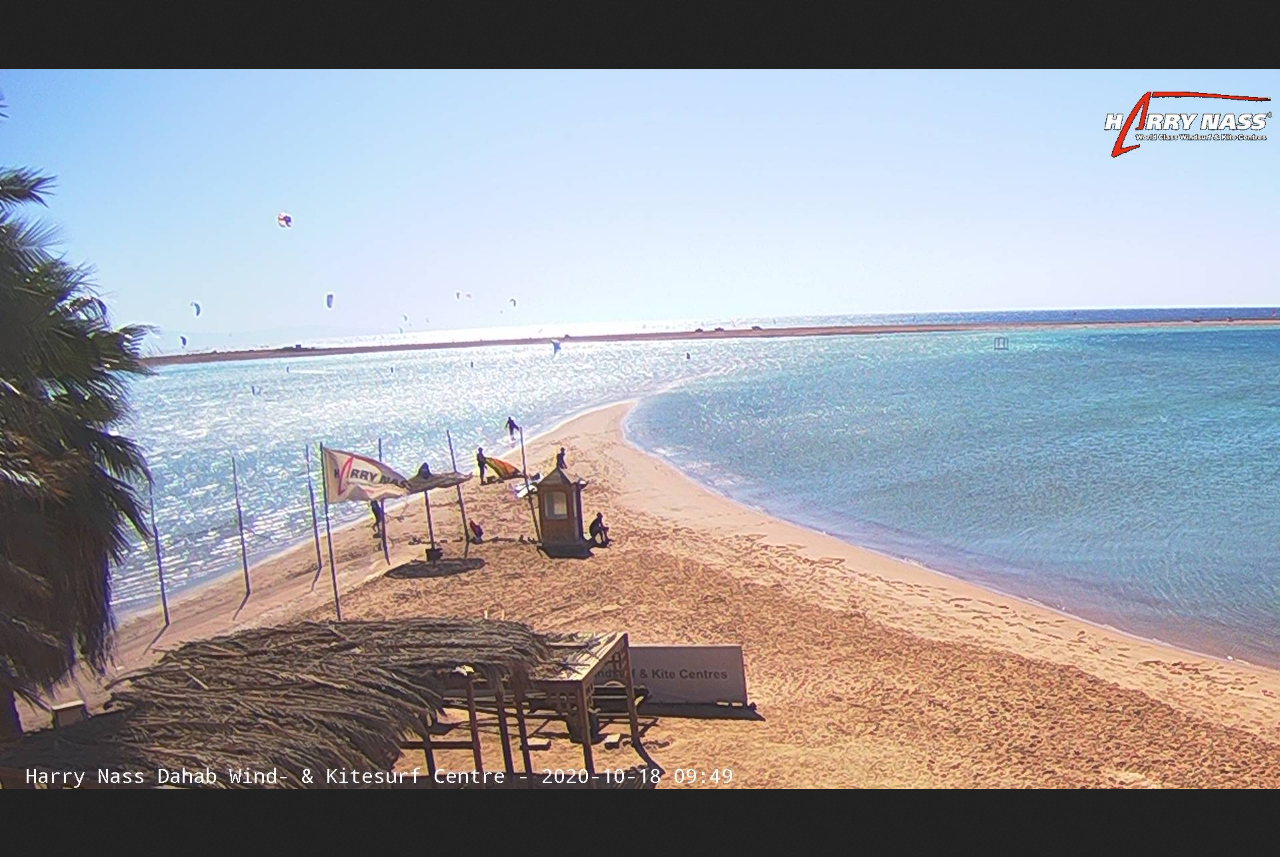yes: (318, 436, 413, 507)
